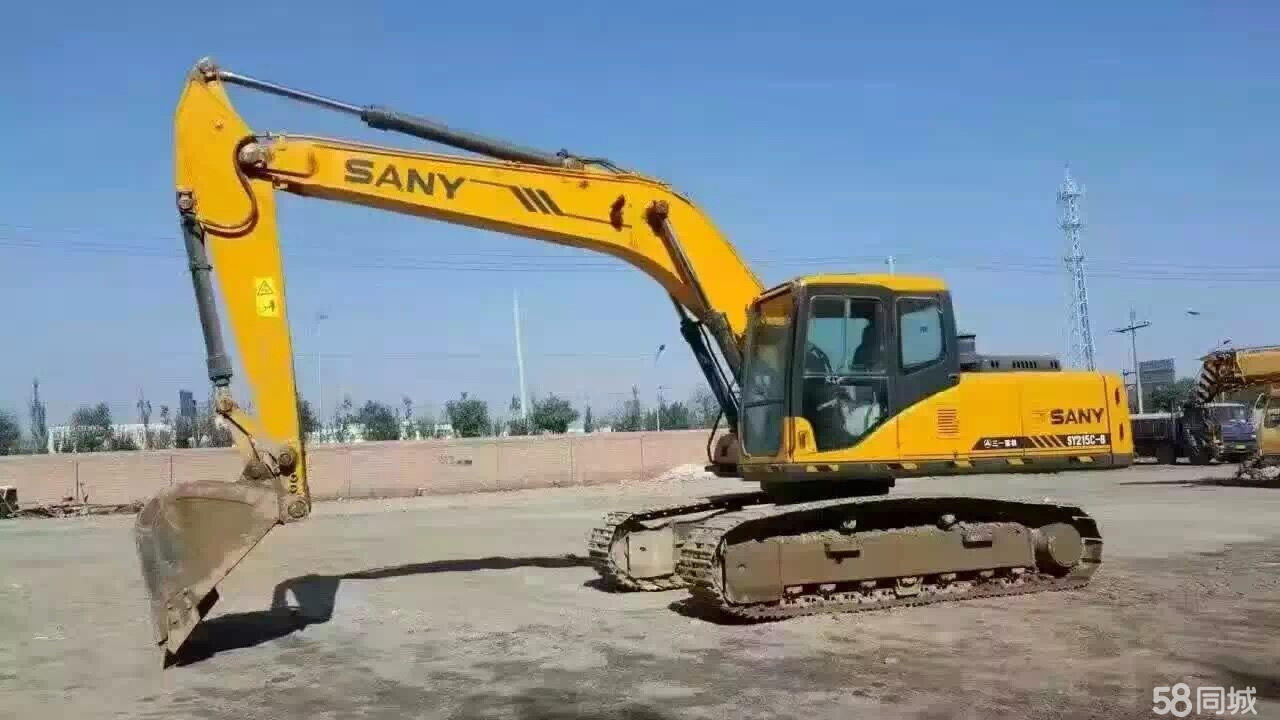excavator: (103, 55, 1155, 669)
